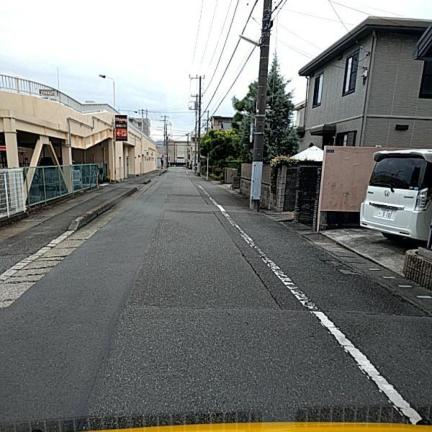Road: (0, 169, 431, 422)
